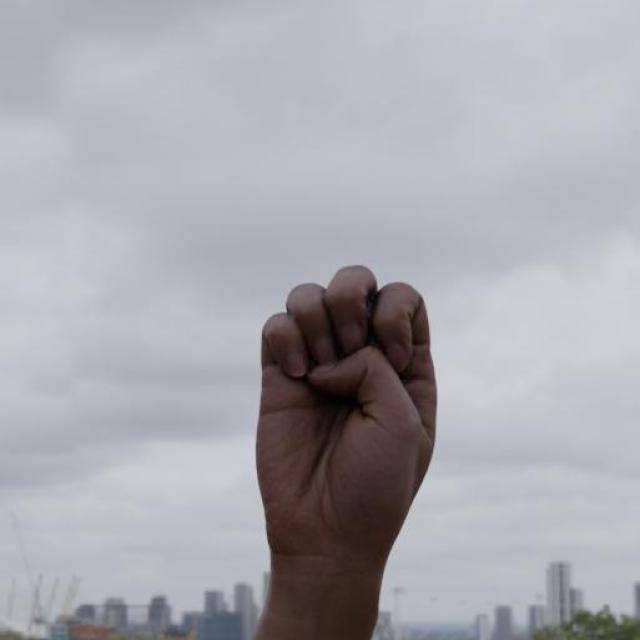E: (252, 259, 444, 549)
